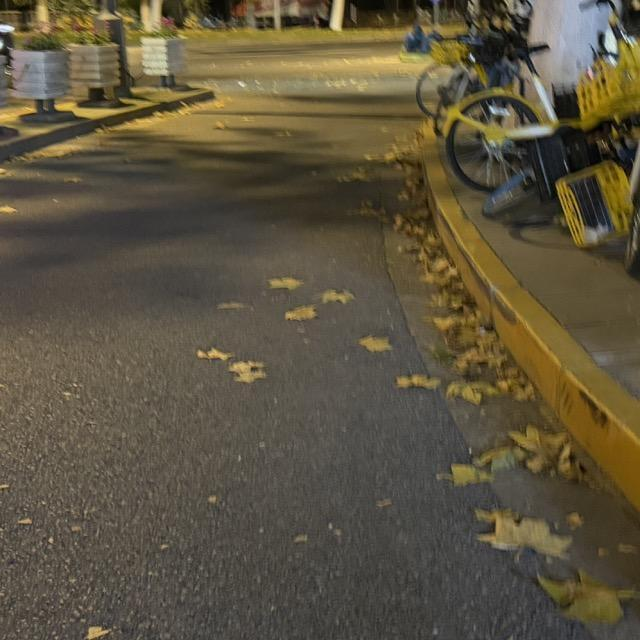curb: (421, 140, 639, 512), (0, 88, 214, 164)
